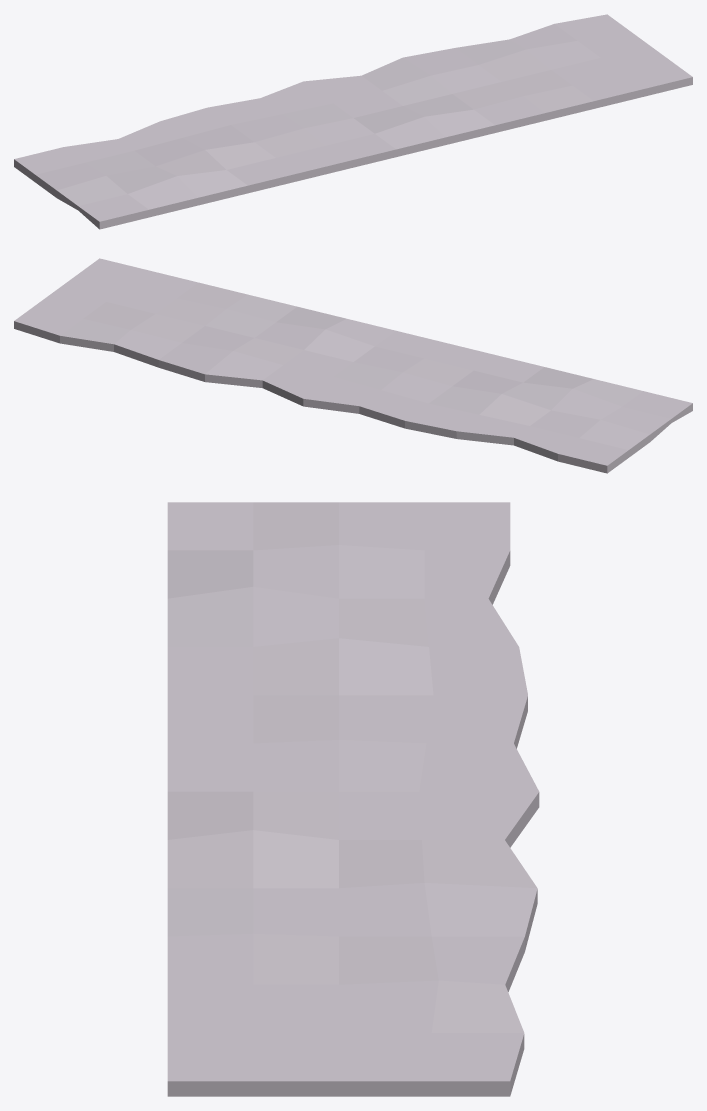
File: snow_07.fbx
3 renders of one model, top to bottom at view 1: azimuth 30°, elevation 25°; view 2: azimuth 150°, elevation 25°; view 3: azimuth 270°, elevation 25°, orthographic. The views are drawn at different scales.
Parts seen in each view (by area): view 1: Plane.022; view 2: Plane.022; view 3: Plane.022.
Boxes of the visible parts, bbox=[...] form: Plane.022: bbox=[14, 14, 692, 229]; Plane.022: bbox=[14, 258, 692, 473]; Plane.022: bbox=[167, 502, 539, 1096].
Size of the model in its own units: 2400 by 53.06 by 651.
